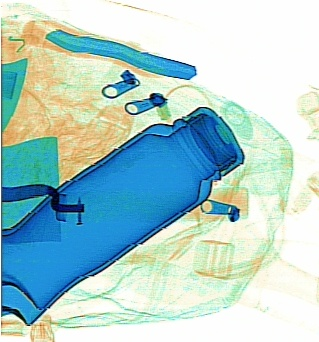knife: (19, 18, 196, 81)
